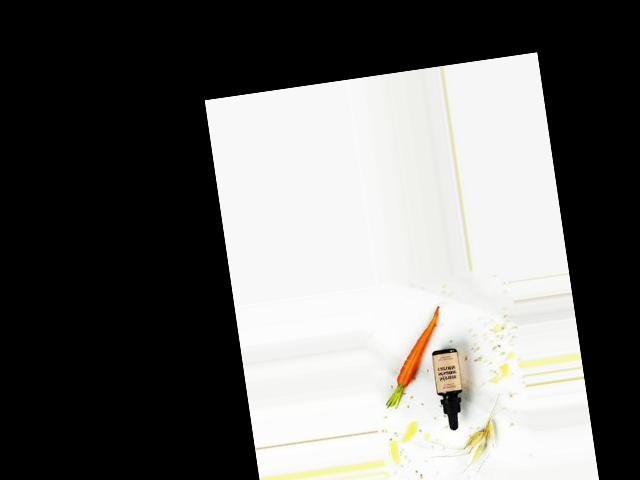carrot: (381, 298, 460, 393)
